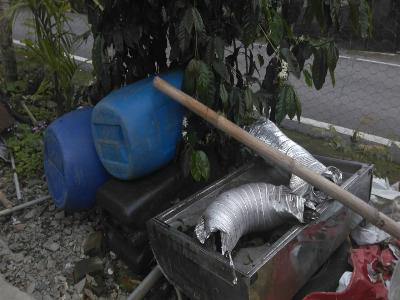box: (143, 151, 372, 299)
bucket: (87, 69, 194, 183), (41, 103, 107, 214)
